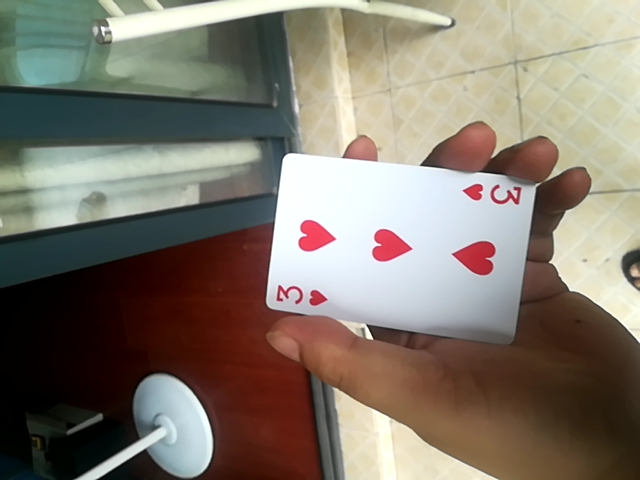hx 3: (262, 152, 537, 343)
